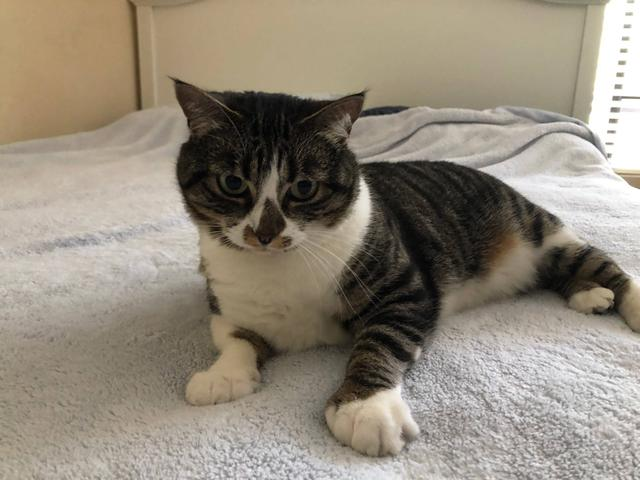playdoh: (165, 76, 640, 462)
